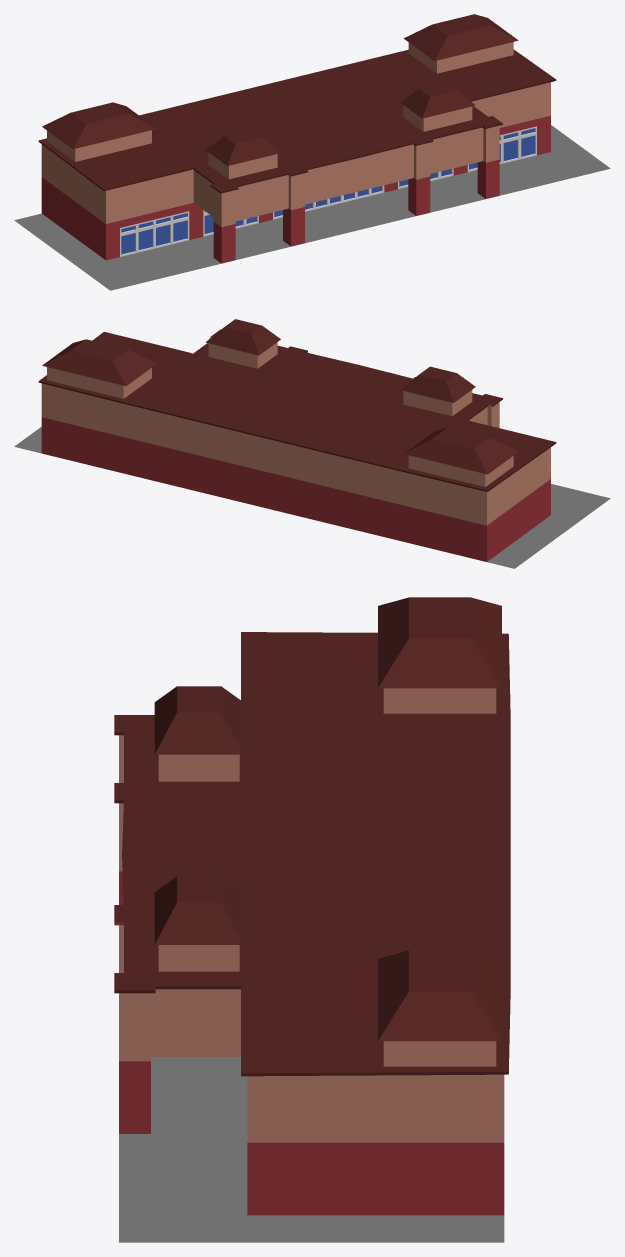
The model's file is Building6.fbx.
3 renders of one model, top to bottom at view 1: azimuth 30°, elevation 25°; view 2: azimuth 150°, elevation 25°; view 3: azimuth 270°, elevation 25°, orthographic. The views are drawn at different scales.
Visible parts, largest first — view 1: Building6; view 2: Building6; view 3: Building6.
Part boxes in pixels (x1=…): Building6: x1=14, y1=14, x2=610, y2=290; Building6: x1=14, y1=319, x2=610, y2=568; Building6: x1=114, y1=597, x2=510, y2=1242.
Size of the model in its own units: 3600 by 700 by 1234.
